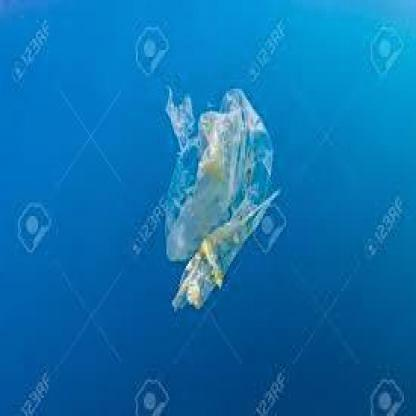pbag: (160, 84, 283, 316)
